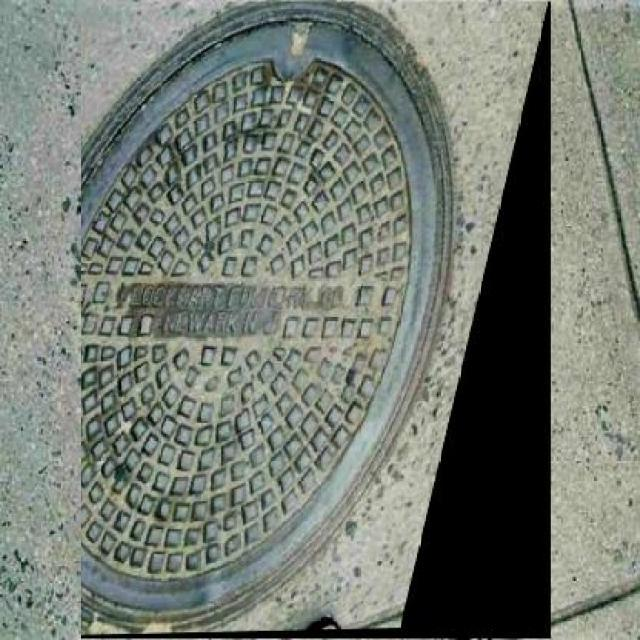Manhole: (80, 1, 551, 638)
